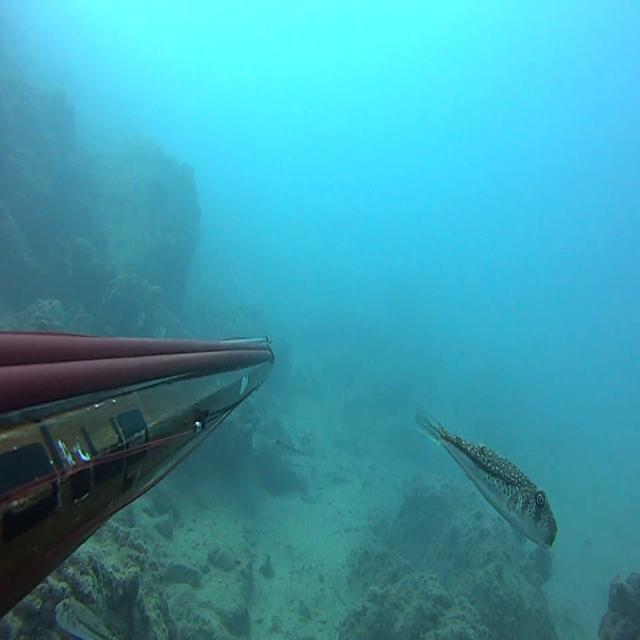Balon Baligi: (412, 405, 558, 552), (56, 596, 117, 640), (270, 438, 326, 472)
